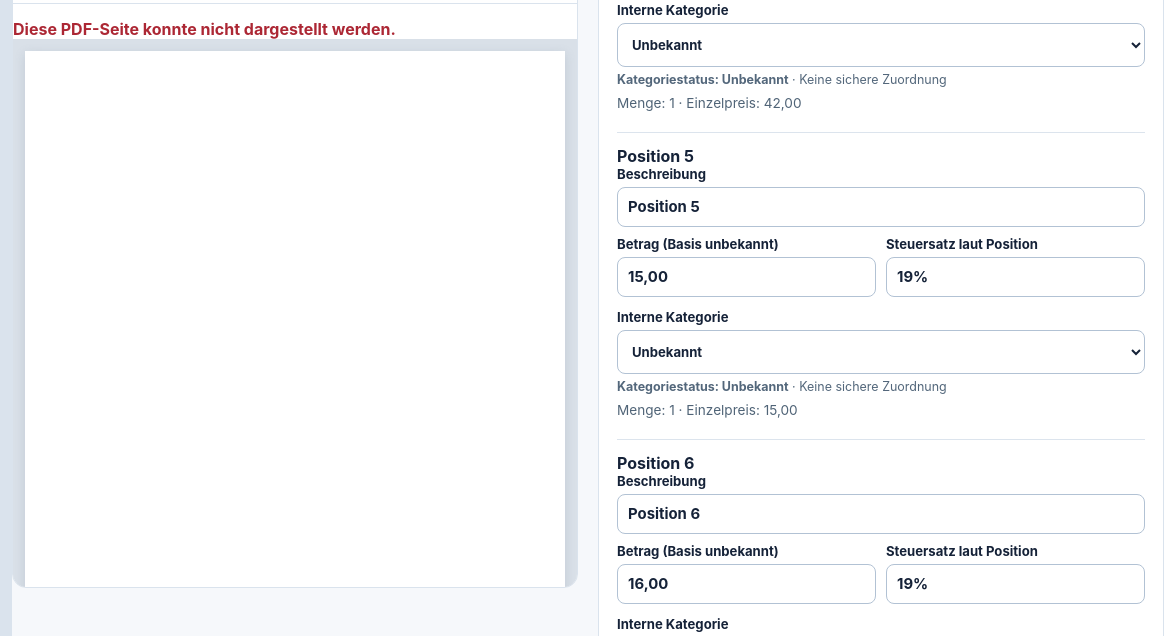
Test: position sum in the browser invoice review › does not show a misleading partial sum after an invalid manual amount
(page scrolled)
Replace the text in the field named "Position 5 Betrag" with "invalid" at (746, 277), box [617, 257, 876, 297]
(page scrolled)
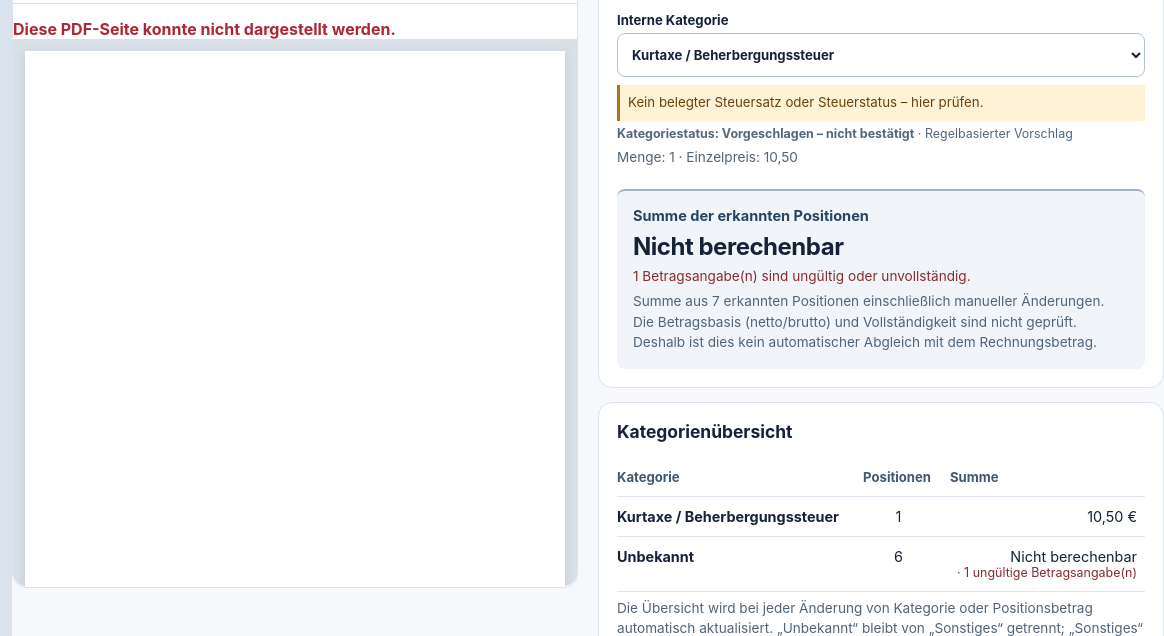
Expected: the text "Nicht berechenbar" is shown 2 times, [633, 232, 844, 262]; [942, 536, 1145, 591]
Expected: the text "1 Betragsangabe(n) sind ungültig oder unvollständig." is shown, [633, 268, 971, 284]
